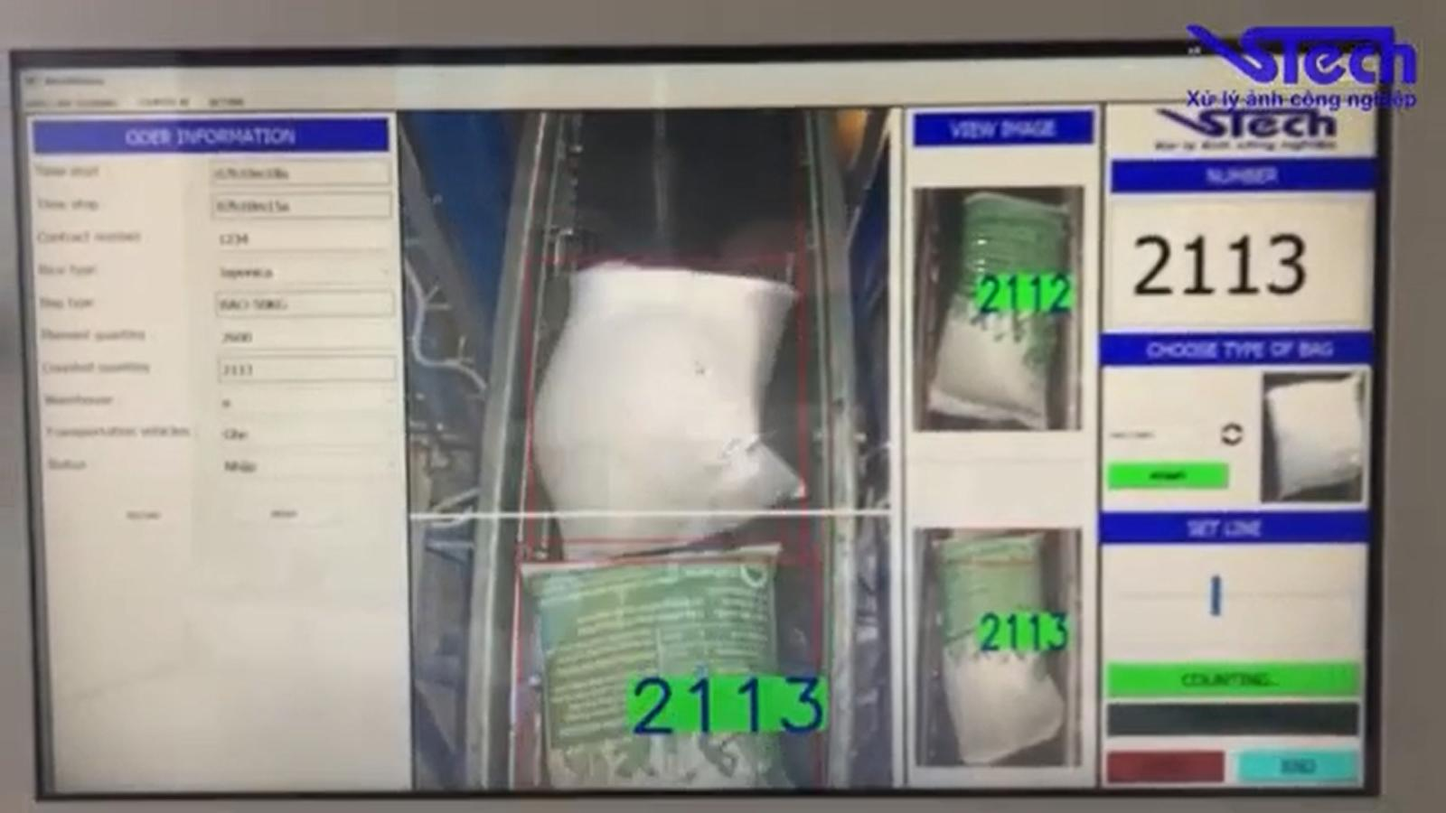rice-bag: (532, 262, 805, 555), (524, 543, 822, 789), (915, 187, 1077, 430), (919, 528, 1073, 767)
